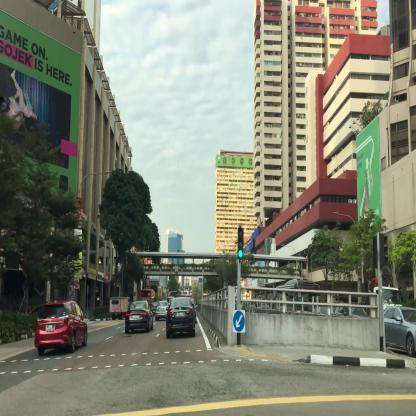green_traffic_light: (238, 228, 243, 258)
